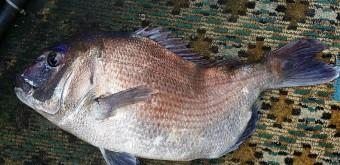fish: (14, 27, 339, 164)
